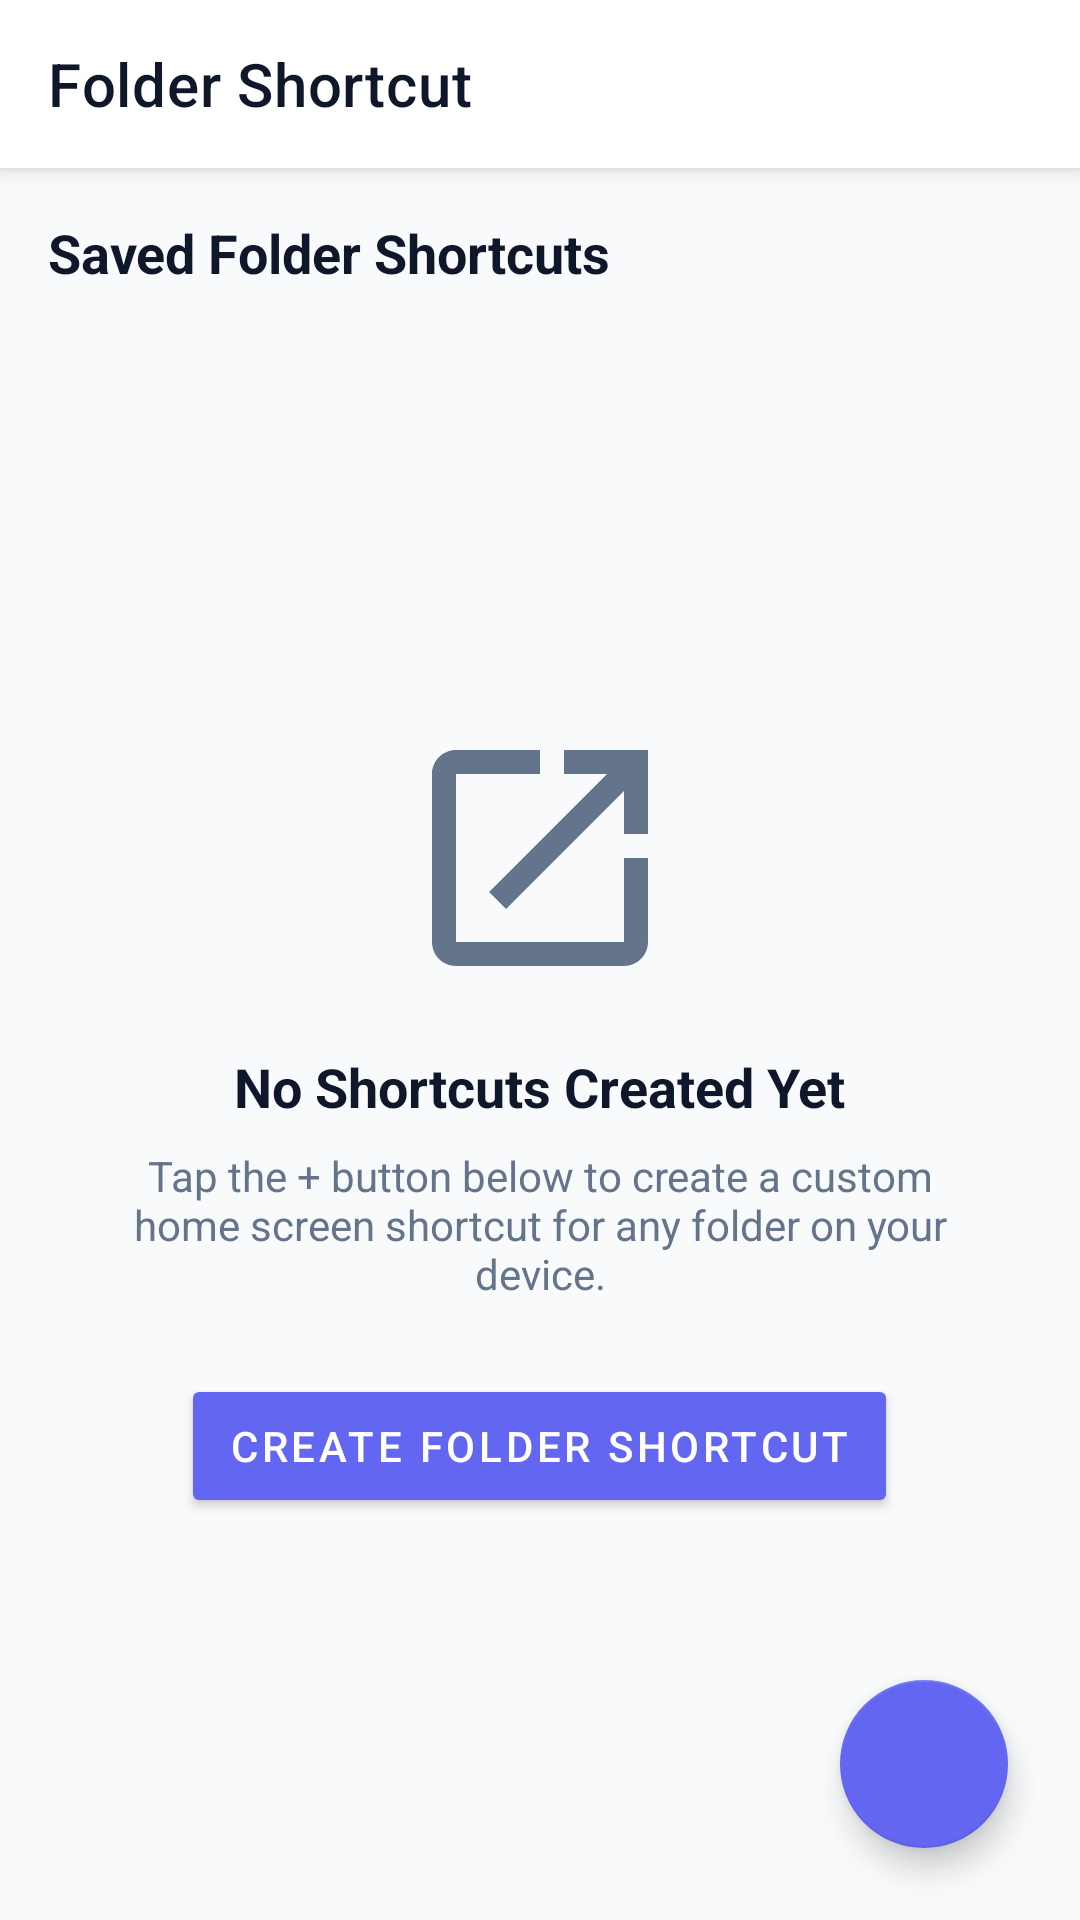

Named icons in this screenshot (1080w x 1920h) and their bounding boxes, (x1, y1, x2, y2):
Empty Shortcuts: (432, 750, 648, 966)
